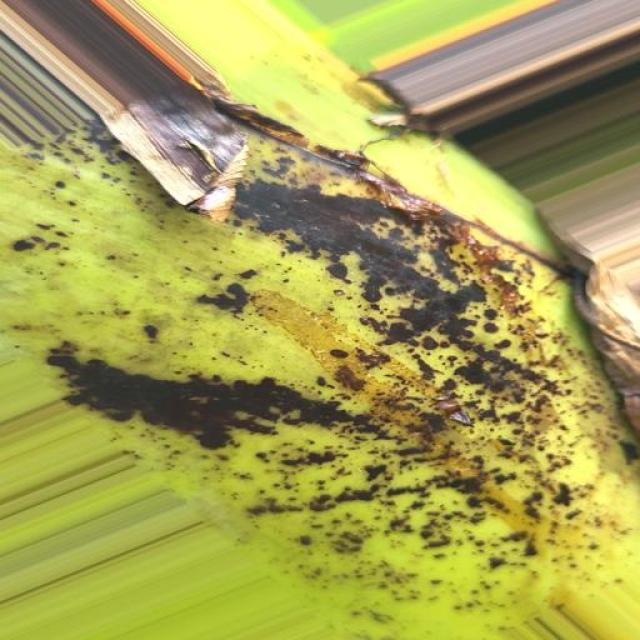Anthracnose: (10, 78, 640, 637)
